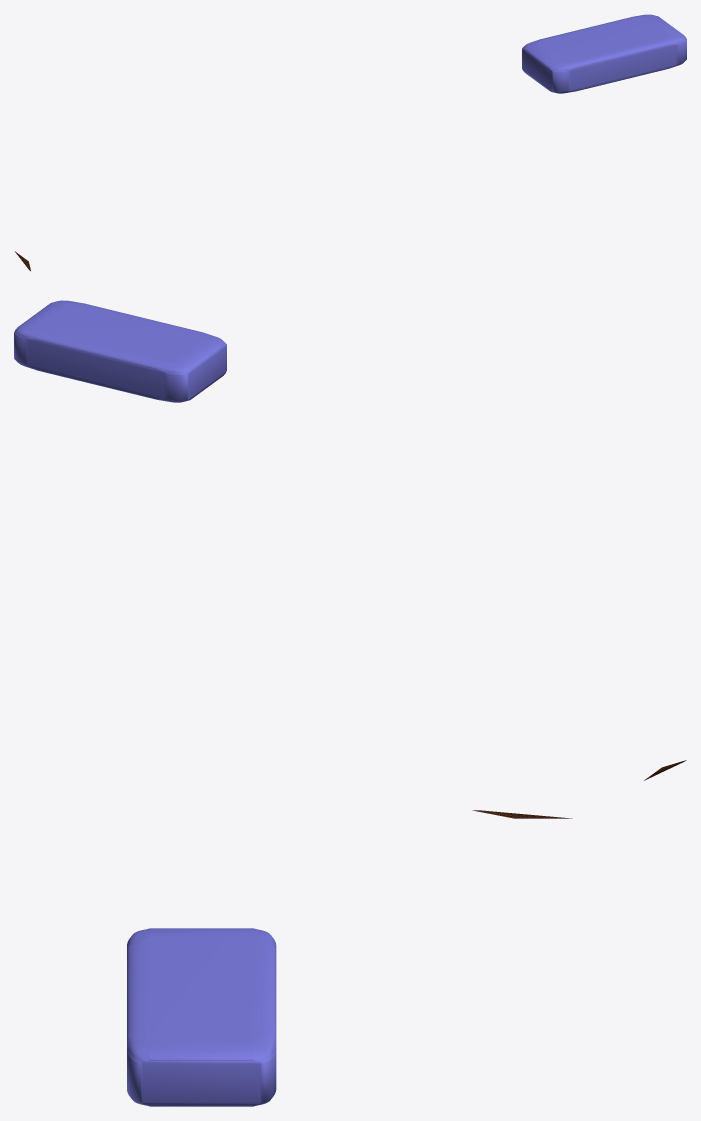
Rendered from BlueKey.glb.
3 views of the same model, one above another, from view 1: azimuth 30°, elevation 25°; view 2: azimuth 150°, elevation 25°; view 3: azimuth 270°, elevation 25° (orthographic). The views are drawn at different scales.
Visible parts, largest first — view 1: White_11; view 2: White_11; view 3: White_11.
Part boxes in pixels (<box>): White_11: <box>522,14,686,93</box>; White_11: <box>14,300,226,402</box>; White_11: <box>127,928,276,1106</box>.
Size of the model in its own units: 6.75 by 1.77 by 2.28.
2 materials, 1 textured.
